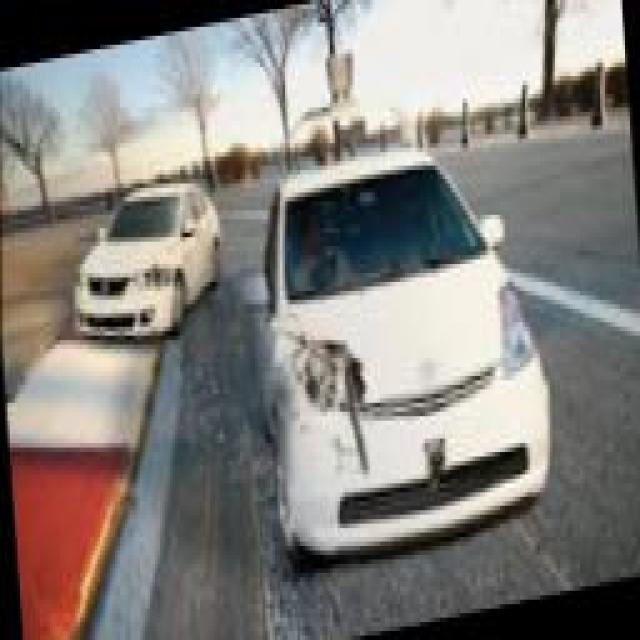Light: (282, 336, 368, 448), (142, 264, 178, 309)
